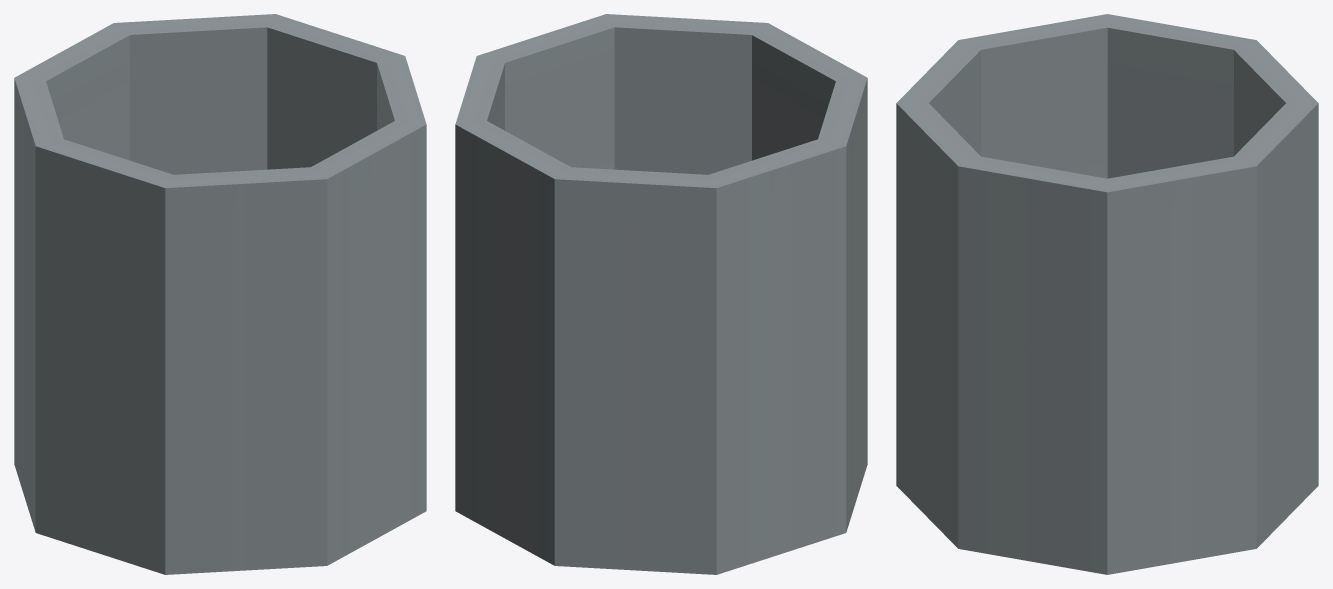
Rendered from bin.fbx.
The picture shows the model from 3 angles, left to right: view 1: azimuth 30°, elevation 25°; view 2: azimuth 150°, elevation 25°; view 3: azimuth 270°, elevation 25°; orthographic projection.
Visible parts, largest first — view 1: Cylinder; view 2: Cylinder; view 3: Cylinder.
Boxes of the visible parts, x1=… form: Cylinder: x1=14, y1=14, x2=426, y2=574; Cylinder: x1=455, y1=14, x2=867, y2=574; Cylinder: x1=896, y1=14, x2=1318, y2=574.
Size of the model in its own units: 100 by 100 by 100.
